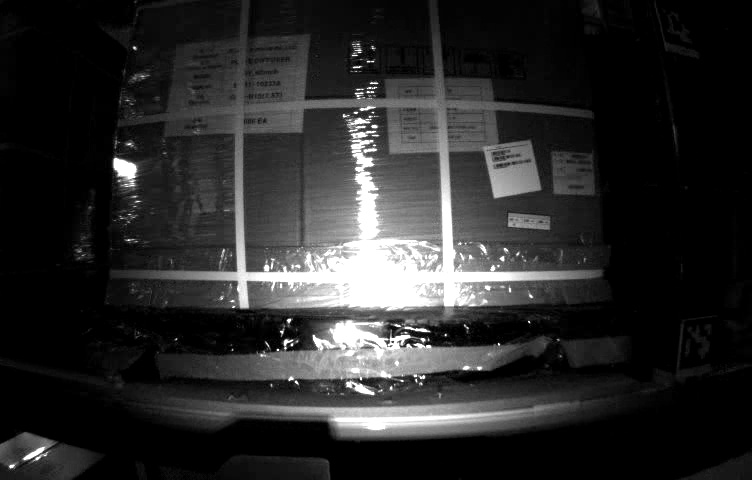True Barcode: (551, 146, 595, 195)
